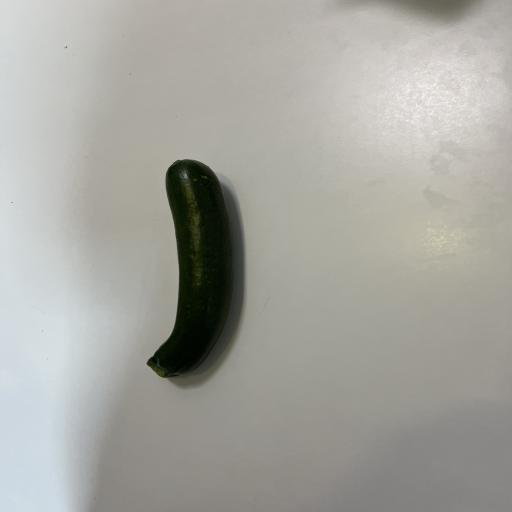courgette: (115, 151, 275, 384)
